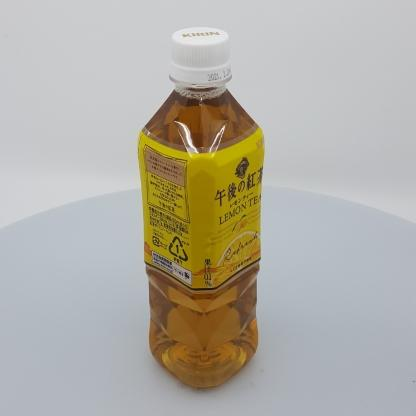--------------500ml: (137, 27, 265, 388)
